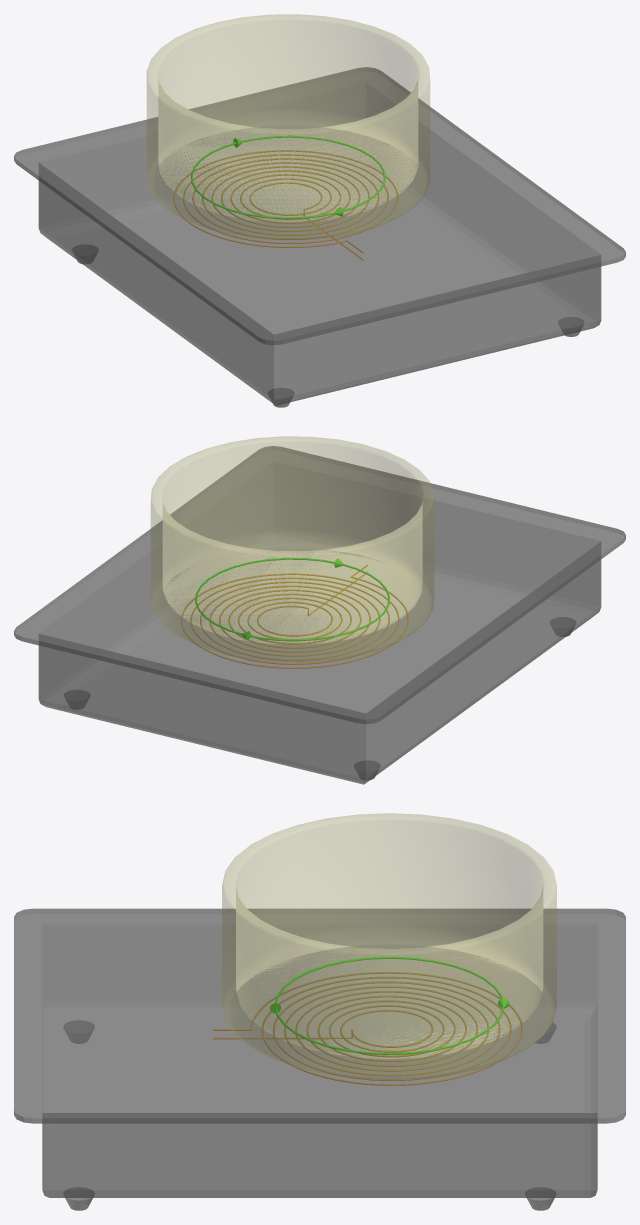
The picture shows the model from 3 angles, top to bottom: view 1: azimuth 30°, elevation 25°; view 2: azimuth 150°, elevation 25°; view 3: azimuth 270°, elevation 25°; orthographic projection. The views are drawn at different scales.
Visible parts, largest first — view 1: khung bep tu, xoong, mam tu, Cone.001; view 2: khung bep tu, xoong, mam tu, Cone.001; view 3: khung bep tu, xoong, mam tu, Cone.001.
Boxes of the visible parts, box(x1,y1,x2,y2) form: khung bep tu: box(14, 67, 625, 407); xoong: box(147, 14, 429, 240); mam tu: box(173, 150, 398, 260); Cone.001: box(191, 135, 385, 219); khung bep tu: box(14, 446, 625, 784); xoong: box(151, 436, 433, 662); mam tu: box(181, 565, 408, 668); Cone.001: box(195, 557, 389, 641); khung bep tu: box(14, 908, 625, 1210); xoong: box(222, 813, 556, 1080); mam tu: box(213, 972, 522, 1085); Cone.001: box(270, 956, 509, 1054).
Bounding box in the file's own units: 1.51 × 0.7933 × 1.86.
